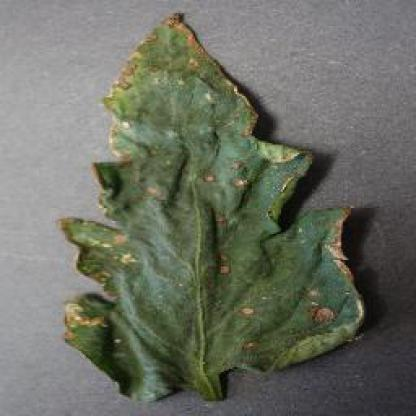bad leaf: (66, 217, 126, 305), (215, 67, 261, 168), (132, 10, 198, 53), (327, 216, 353, 299), (103, 64, 128, 148), (64, 297, 112, 336), (241, 304, 273, 362), (123, 157, 167, 198), (206, 159, 252, 197), (299, 284, 337, 329), (216, 246, 247, 281), (219, 207, 249, 232)
